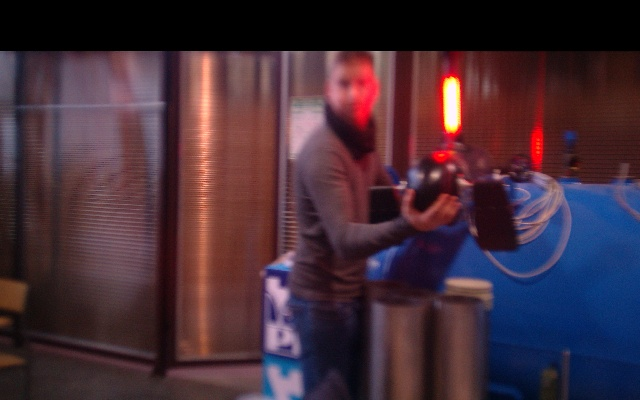red: (440, 73, 462, 138)
